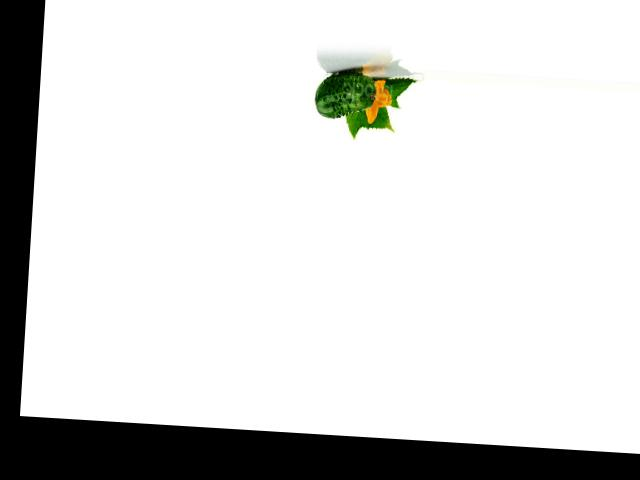cucumber: (313, 69, 375, 120)
